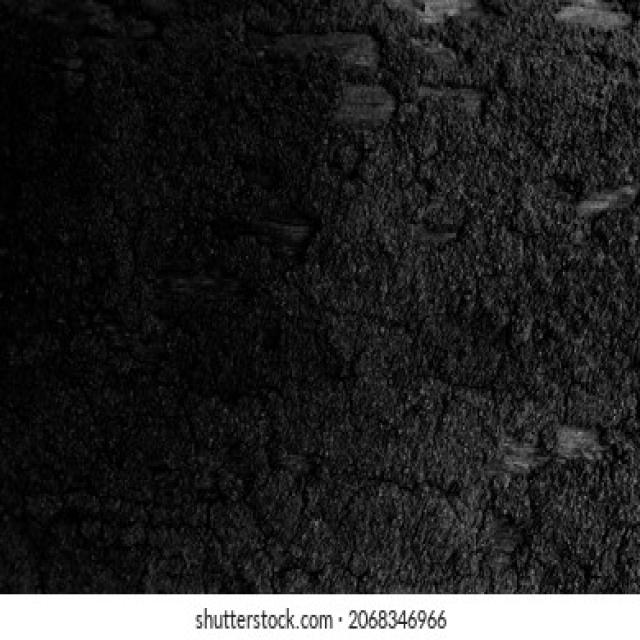Black Soil: (61, 25, 614, 502)
